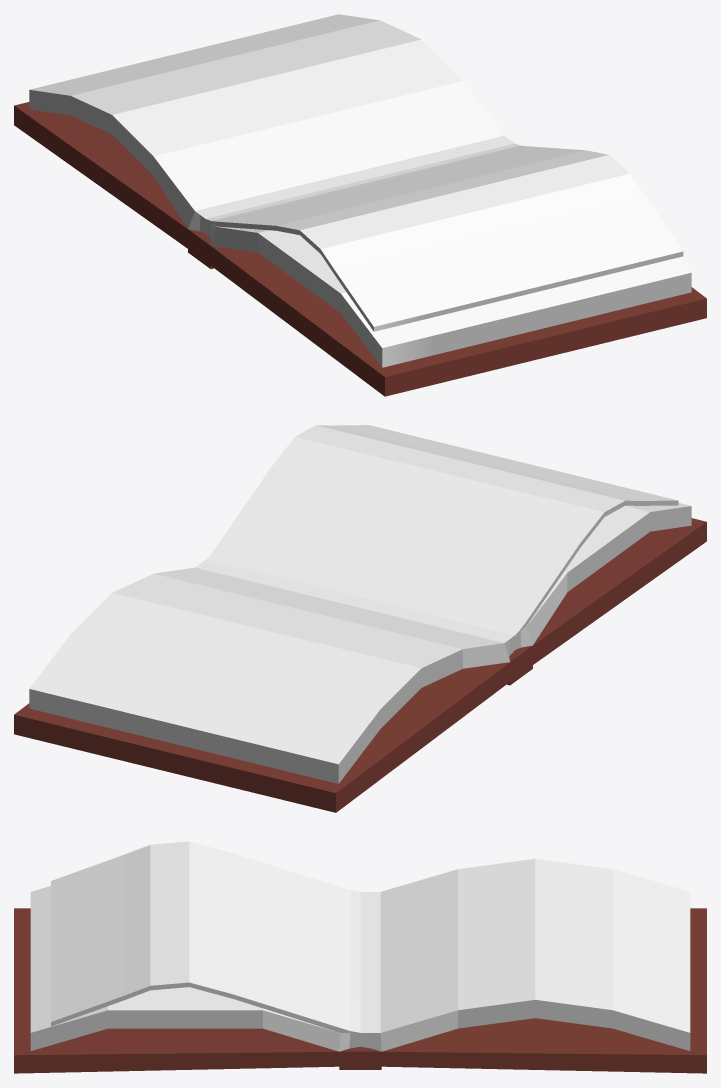
The model's file is bookopen02.gltf.
3 renders of one model, top to bottom at view 1: azimuth 30°, elevation 25°; view 2: azimuth 150°, elevation 25°; view 3: azimuth 270°, elevation 25°, orthographic. The views are drawn at different scales.
Visible parts, largest first — view 1: Cube; view 2: Cube; view 3: Cube.
Part boxes in pixels (box(x1,y1,x2,y2)): Cube: box(14, 14, 706, 396); Cube: box(14, 425, 706, 812); Cube: box(14, 841, 706, 1073).
Size of the model in its own units: 0.172 by 0.0488 by 0.343.
Materials: 1 (1 with a texture image).
